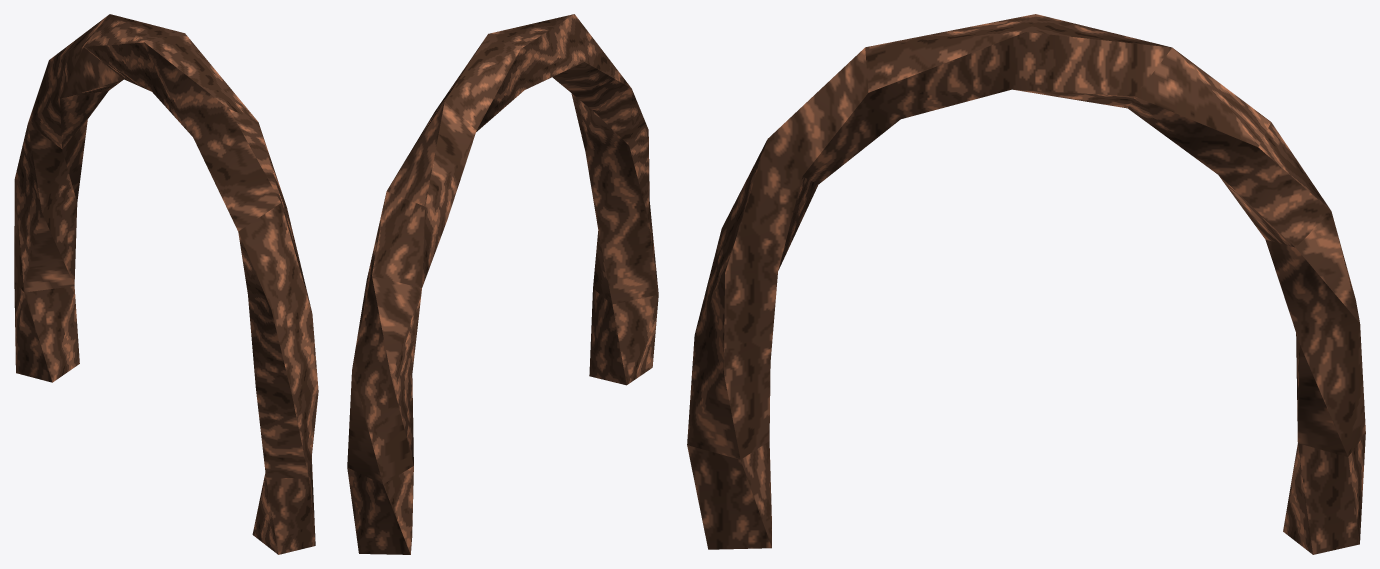
File: portal_gate.fbx
3 views of the same model, side by side, from view 1: azimuth 30°, elevation 25°; view 2: azimuth 150°, elevation 25°; view 3: azimuth 270°, elevation 25° (orthographic). The views are drawn at different scales.
Parts seen in each view (by area): view 1: pCube1; view 2: pCube1; view 3: pCube1.
Part boxes in pixels (box(x1,y1,x2,y2)): pCube1: box(14, 14, 318, 554); pCube1: box(347, 14, 658, 554); pCube1: box(687, 14, 1365, 554).
Size of the model in its own units: 1.27 by 8.76 by 10.43.
Materials: 1 (1 with a texture image).
